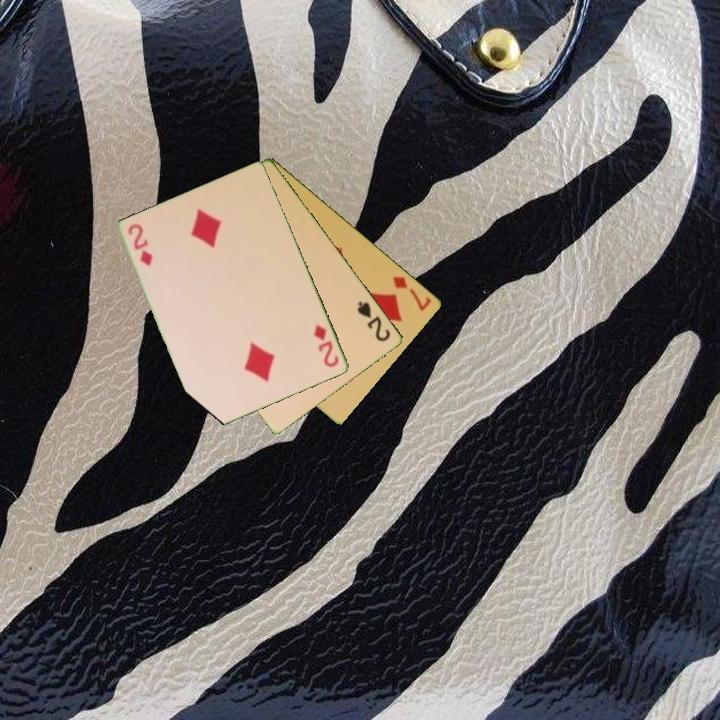2d: (310, 321, 342, 370), (125, 220, 156, 269)
2s: (354, 297, 394, 344)
7d: (389, 273, 435, 314)
